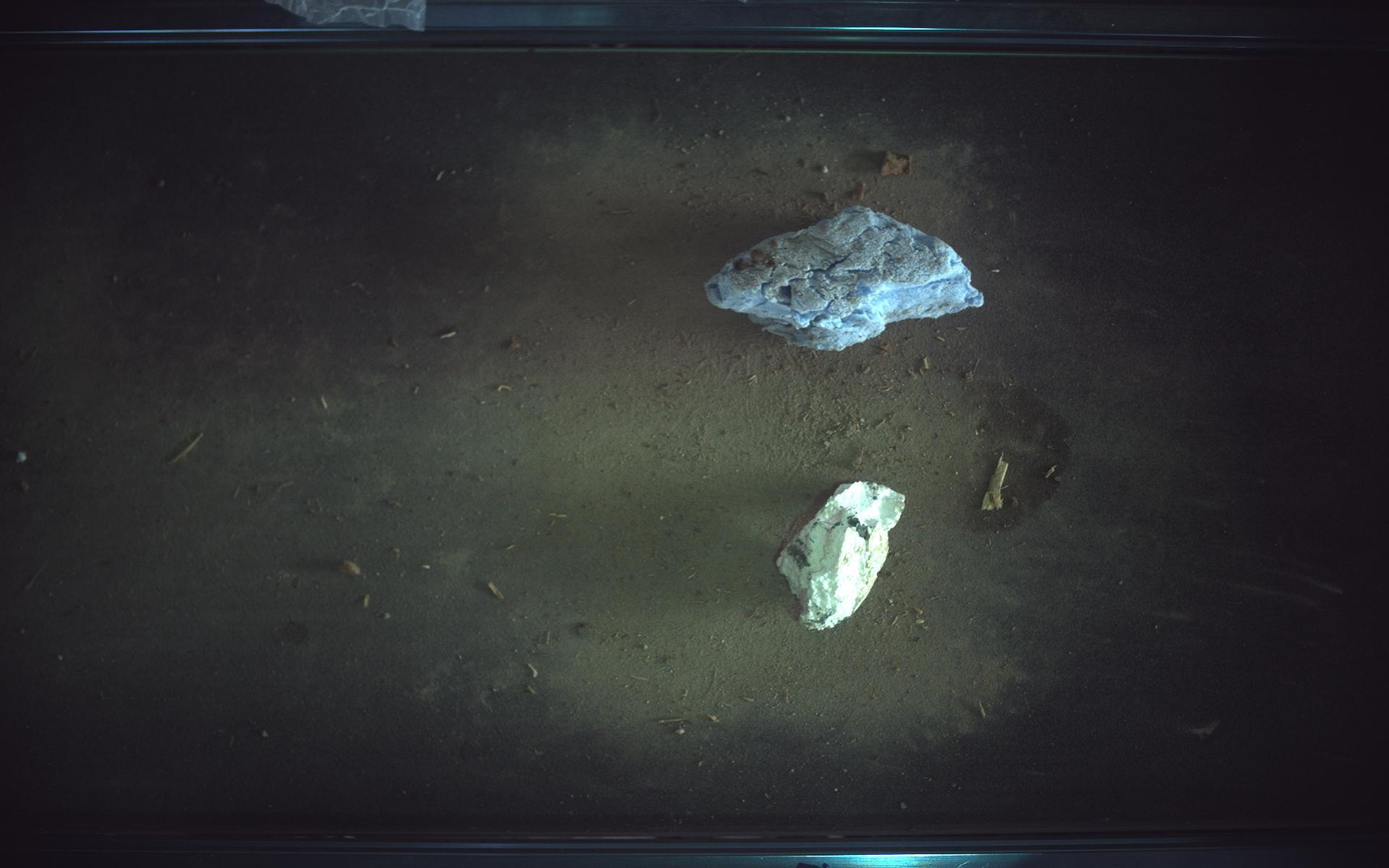foam: (707, 205, 986, 350), (778, 482, 906, 631)
